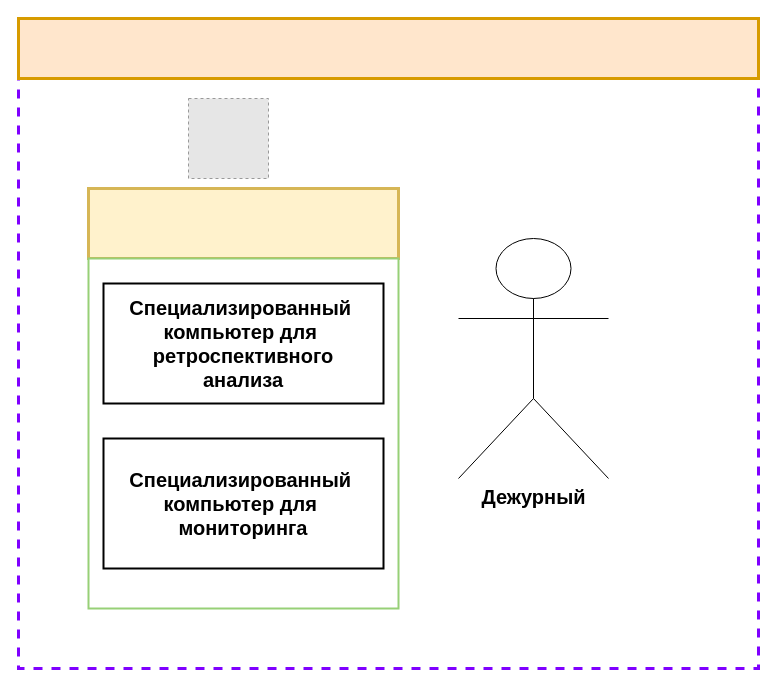
Image size: 777x687. Some labels were removed from this diagram. Grey dashed boxes stand in for pictures. Each missing label, with the centre of its shape:
"Пост дежурного" belongs at (388,48).
"Центральная мониторная станция" belongs at (243,223).
